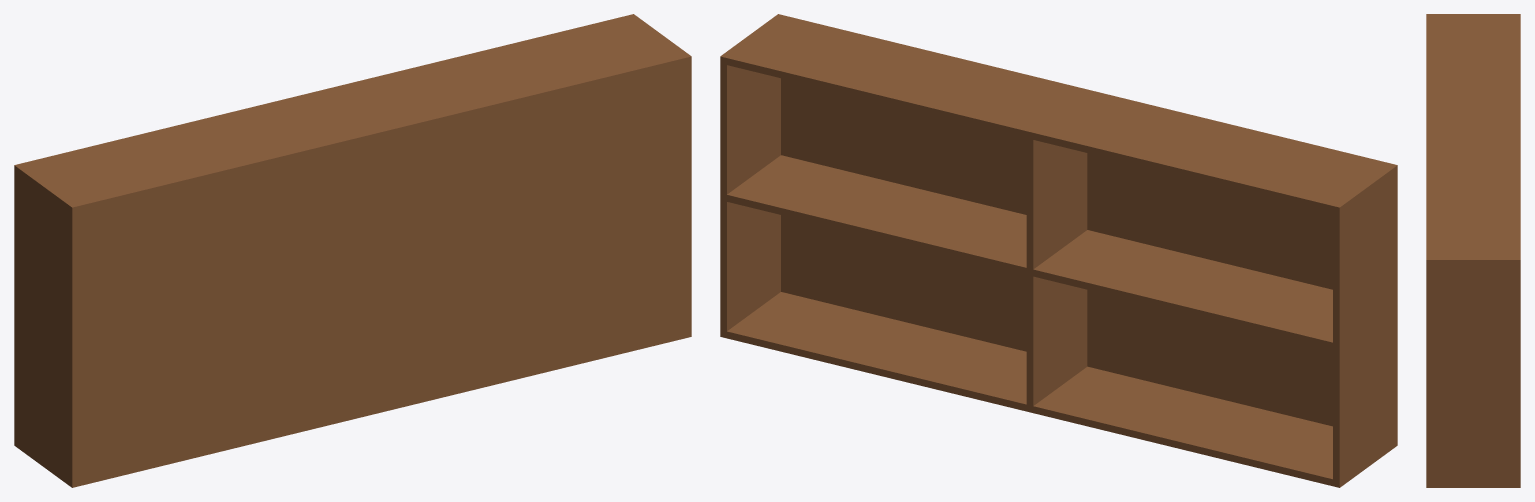
Rendered from parametric-wall-shelf-1st-1850x0300x0800.glb.
3 renders of one model, left to right at view 1: azimuth 30°, elevation 25°; view 2: azimuth 150°, elevation 25°; view 3: azimuth 270°, elevation 25°, orthographic. The views are drawn at different scales.
Visible parts, largest first — view 1: backboard, top, end:-1; view 2: backboard, top, bottom, shelf, end:-1, end:1, divider:1; view 3: top, end:1, backboard, end:-1.
Boxes of the visible parts, x1,y1,x2,y2 form: backboard: [68, 53, 691, 487]; top: [21, 15, 680, 202]; end:-1: [14, 163, 74, 484]; backboard: [774, 14, 1397, 447]; top: [727, 18, 1386, 212]; bottom: [727, 292, 1332, 486]; shelf: [727, 155, 1332, 349]; end:-1: [1333, 166, 1393, 487]; end:1: [720, 17, 780, 338]; divider:1: [1026, 138, 1087, 405]; top: [1432, 16, 1520, 257]; end:1: [1432, 257, 1520, 487]; backboard: [1426, 14, 1432, 487]; end:-1: [1432, 14, 1520, 16].
Size of the model in its own units: 1.85 by 0.8 by 0.3.
